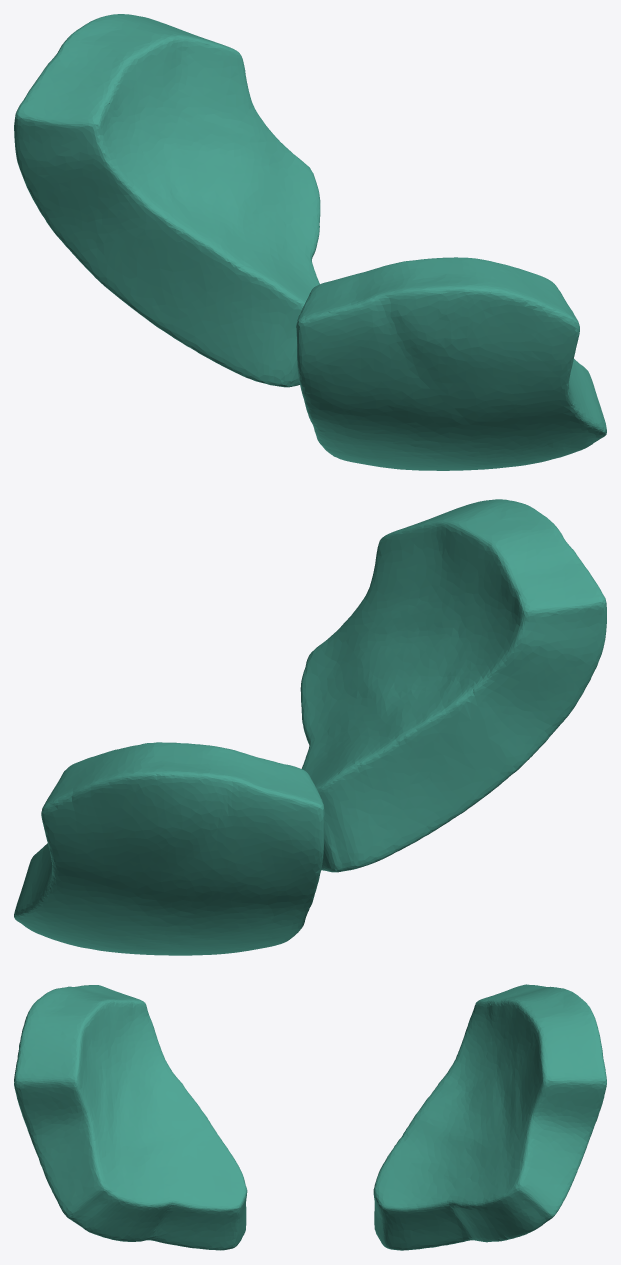
The picture shows the model from 3 angles, top to bottom: view 1: azimuth 30°, elevation 25°; view 2: azimuth 150°, elevation 25°; view 3: azimuth 270°, elevation 25°; orthographic projection. The views are drawn at different scales.
Parts seen in each view (by area): view 1: 453.obj; view 2: 453.obj; view 3: 453.obj.
Part boxes in pixels (x1,y1,x2,y2): 453.obj: [14, 14, 606, 470]; 453.obj: [14, 499, 606, 955]; 453.obj: [14, 984, 606, 1250].
Bounding box in the file's own units: 4358 × 4048 × 10093.
